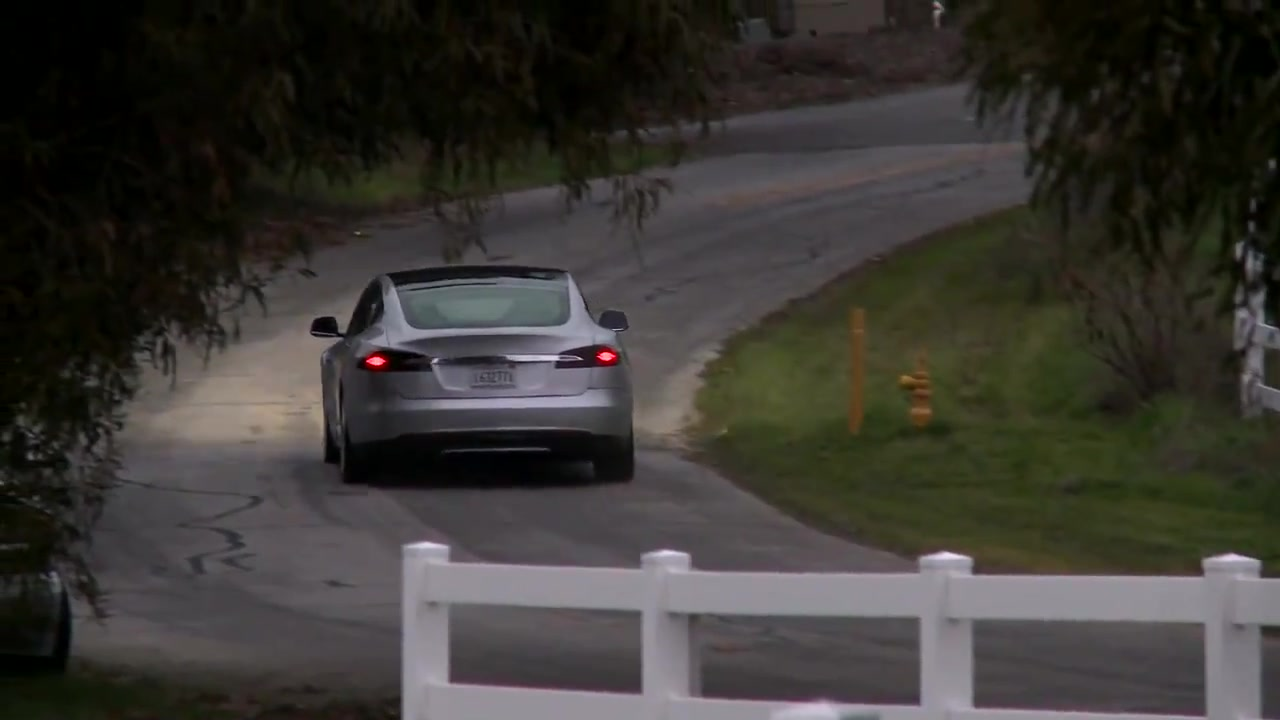car: (308, 268, 641, 488)
